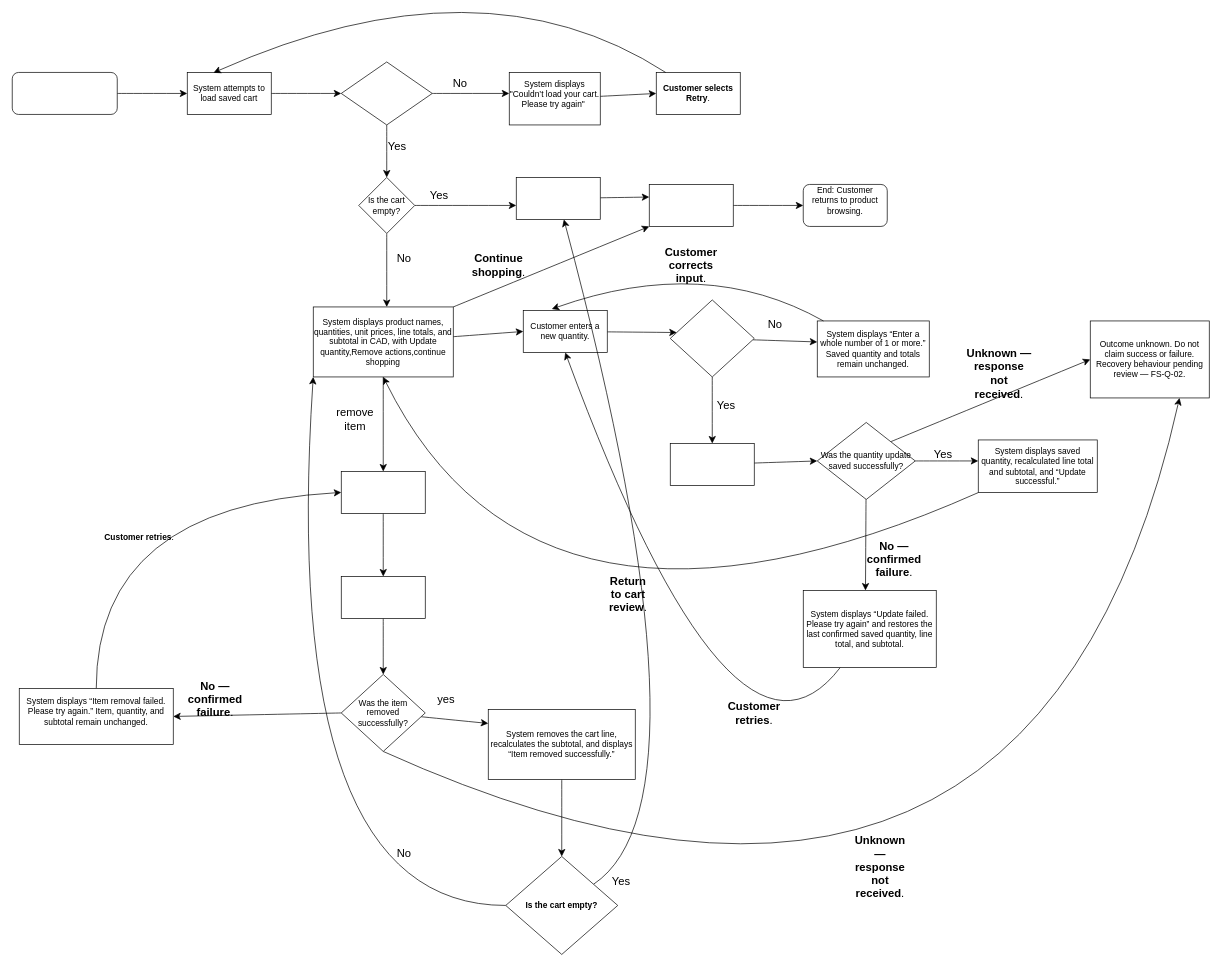
Some shapes in this 1222 by 967 pixel diagram are drawn without their labels. Here are the shapes that lost their labels. From the top down, the box of each, then its label:
(12, 72, 117, 114): Start: Signed-in customer opens cart
(341, 61, 432, 125): Did the cart load successfully?
(516, 177, 600, 219): System shows “Cart is empty,” subtotal CAD 0.00, and Continue shopping.
(649, 184, 733, 226): Customer selects Continue shopping.
(670, 299, 754, 377): Is the quantity a whole number of 1 or more?
(670, 443, 754, 485): System attempts to save the new quantity
(341, 471, 425, 513): Customer selects Remove for an item.
(341, 576, 425, 618): System attempts to remove the selected cart line.
